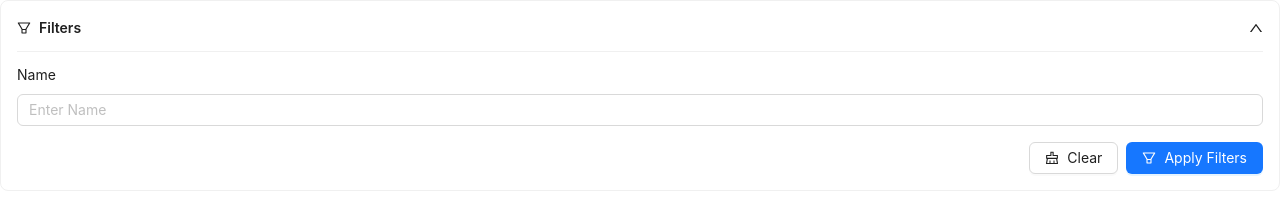
Test case: FilterPanel Component › Filter Actions › resets form when Clear button is clicked
The width and height of the screenshot is (1280, 208).
In the field with placeholder "Enter Name": (640, 110) [17,94,1263,126], type "test"
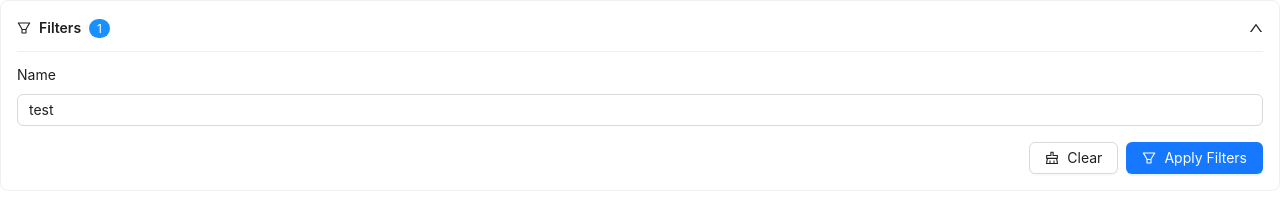
Click the button "Clear": (1074, 158) [1029,142,1118,174]
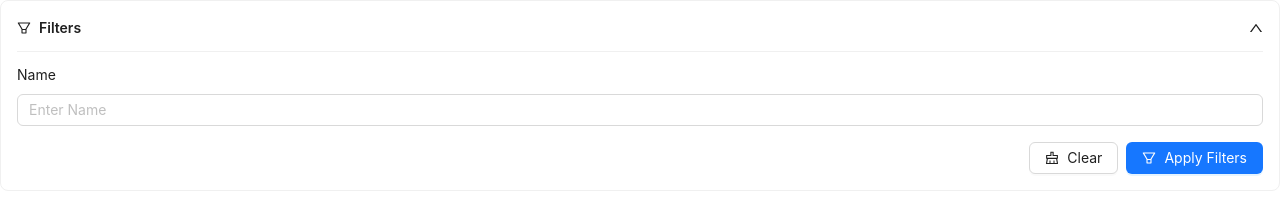
expect the field with placeholder "Enter Name" is empty: met, box [17,94,1263,126]
